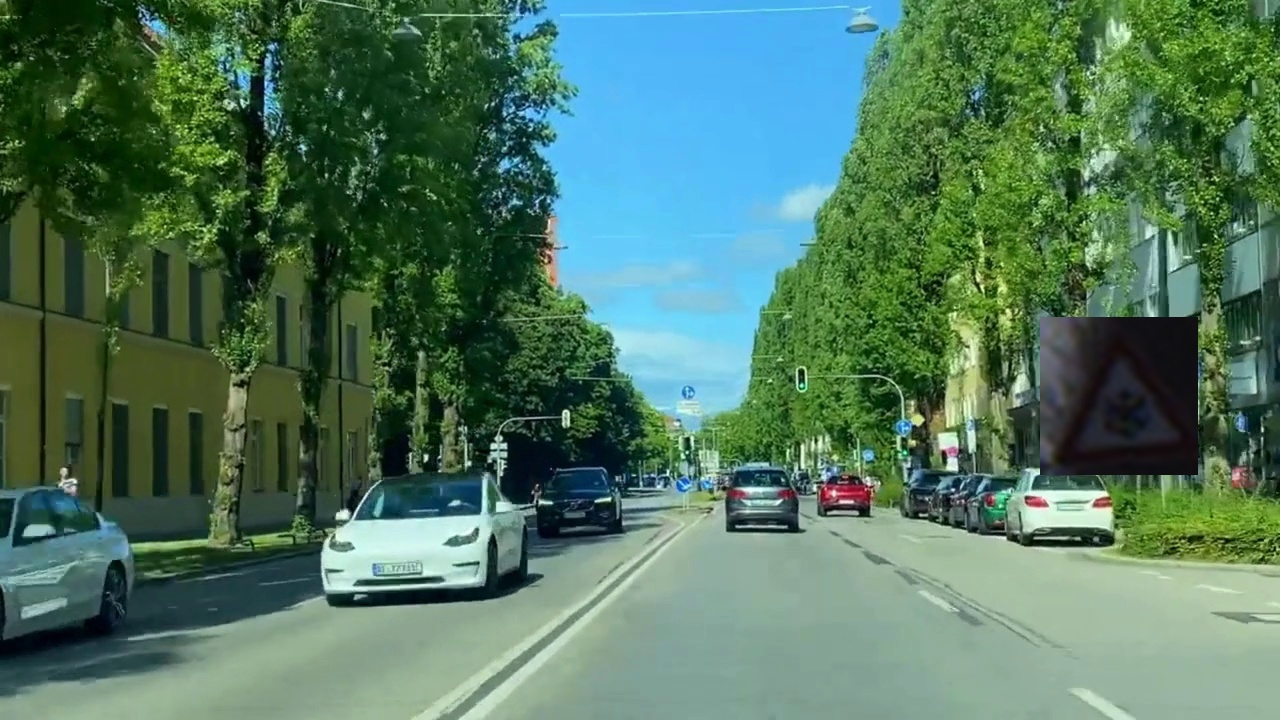Ice/snow: (1040, 317, 1198, 475)
